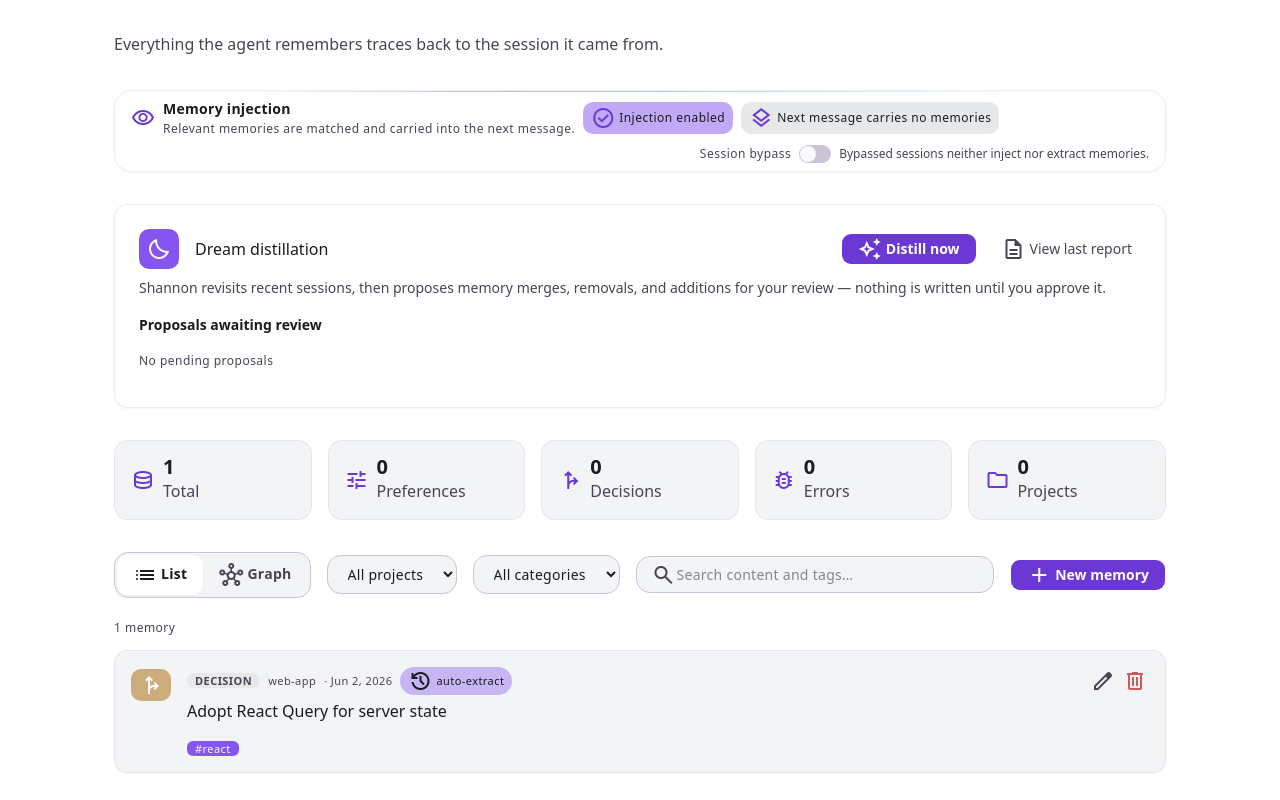
MemoryPanel view switching + provenance badge › shows the list view by default and switches to the graph view
Expected: the text "Adopt React Query for server state" is shown, left=187, top=700, right=447, bottom=722
Click the tab "Graph".
click(256, 575)  # box left=203, top=555, right=308, bottom=595
(page scrolled)
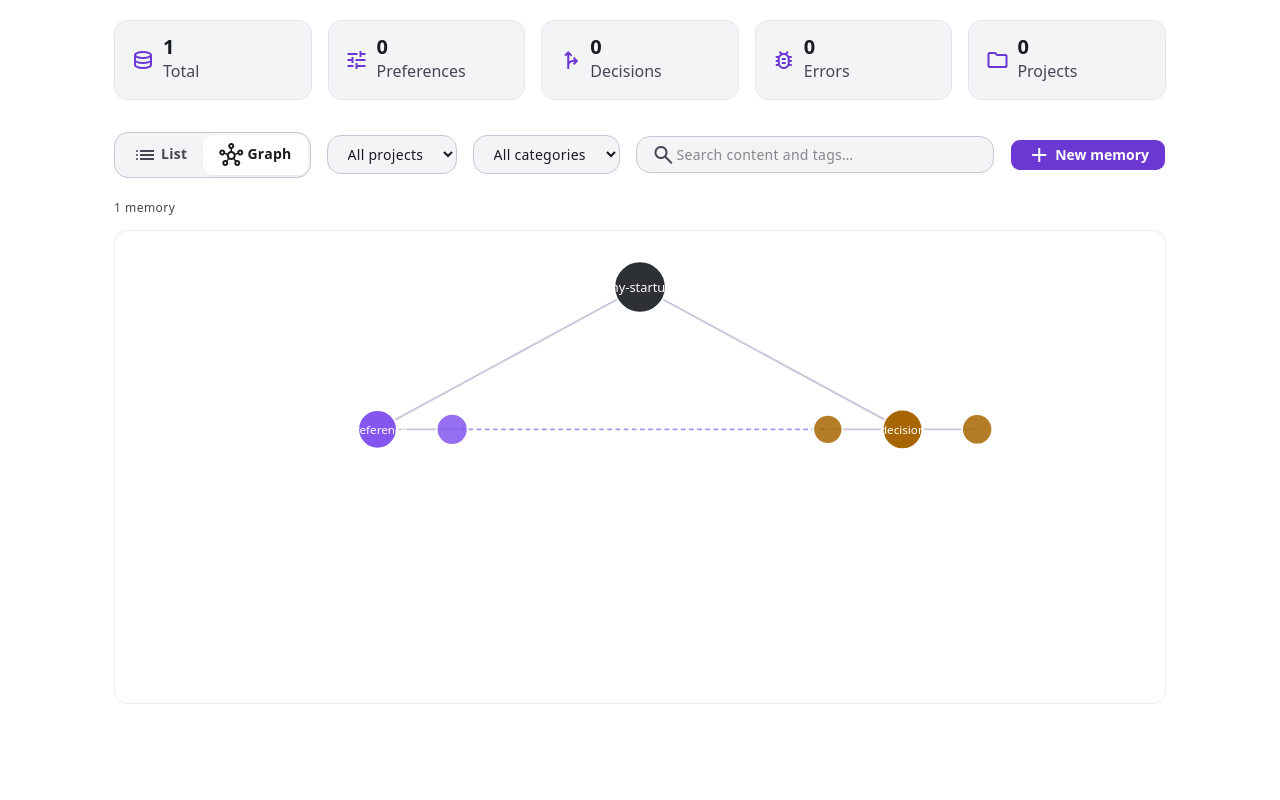
Now the picture with test id "memory-graph-svg" is shown, box left=115, top=231, right=1165, bottom=704
